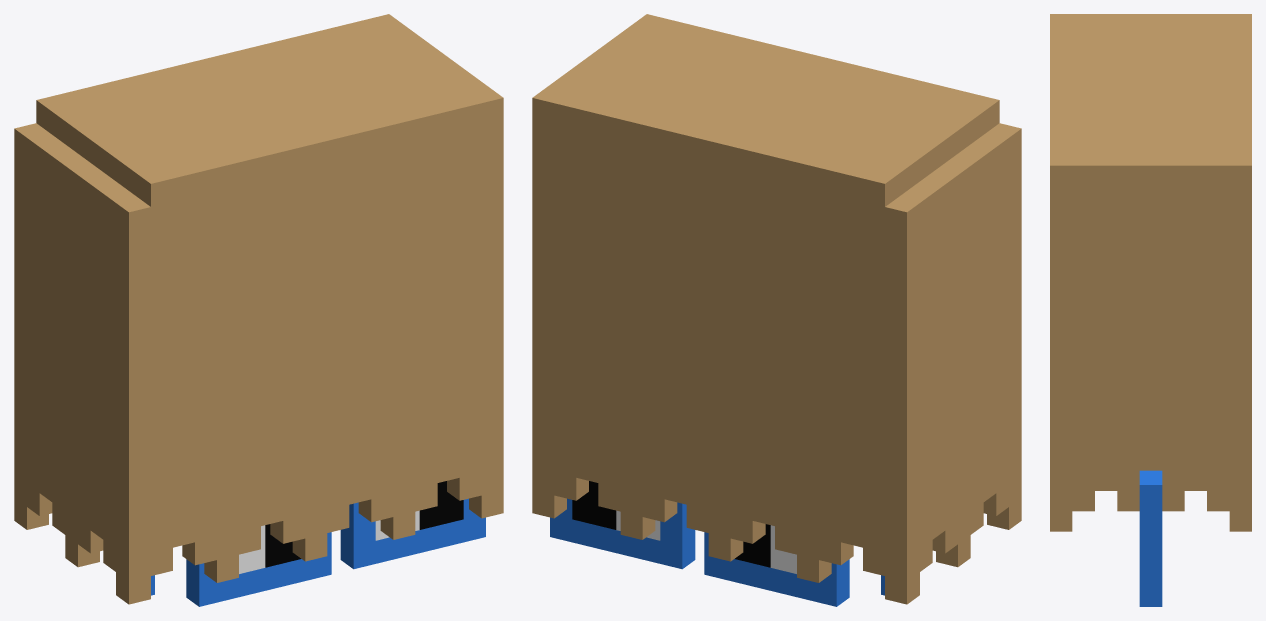
File: paperbag.glb
The picture shows the model from 3 angles, left to right: view 1: azimuth 30°, elevation 25°; view 2: azimuth 150°, elevation 25°; view 3: azimuth 270°, elevation 25°; orthographic projection. The views are drawn at different scales.
Parts seen in each view (by area): view 1: base, glasses, layer-2; view 2: base, glasses, layer-2; view 3: base, glasses.
Boxes of the visible parts, box(x1,y1,x2,y2) form: base: box(14, 14, 503, 604); glasses: box(151, 498, 485, 606); layer-2: box(239, 481, 463, 573); base: box(532, 14, 1021, 604); glasses: box(550, 498, 884, 606); layer-2: box(572, 481, 796, 573); base: box(1050, 14, 1251, 531); glasses: box(1139, 470, 1162, 606).
Size of the model in its own units: 18.5 by 21 by 9.
Materials: 6 (6 with a texture image).
